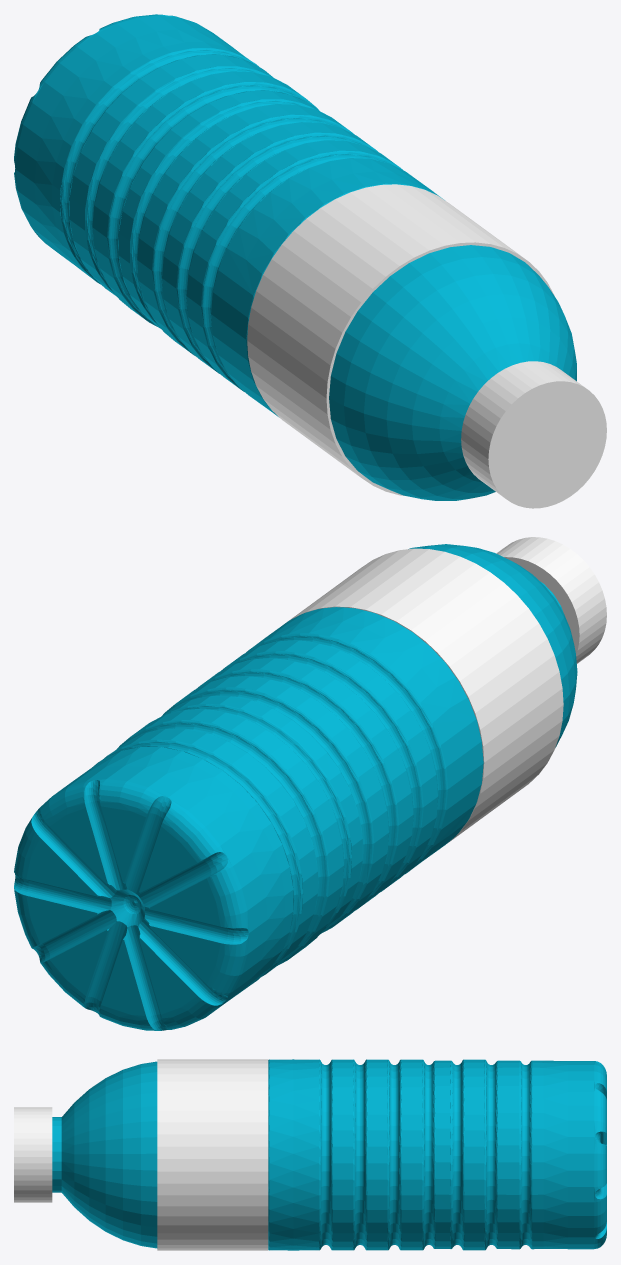
Rendered from water_bottle_model.glb.
3 renders of one model, top to bottom at view 1: azimuth 30°, elevation 25°; view 2: azimuth 150°, elevation 25°; view 3: azimuth 270°, elevation 25°, orthographic. The views are drawn at different scales.
Visible parts, largest first — view 1: obj_0, obj_2, obj_1; view 2: obj_0, obj_2, obj_1; view 3: obj_0, obj_2, obj_1.
Part boxes in pixels (x1=…): obj_0: x1=14, y1=14, x2=576, y2=500; obj_2: x1=247, y1=184, x2=554, y2=495; obj_1: x1=461, y1=361, x2=606, y2=508; obj_0: x1=14, y1=544, x2=577, y2=1030; obj_2: x1=289, y1=548, x2=563, y2=842; obj_1: x1=496, y1=537, x2=606, y2=663; obj_0: x1=52, y1=1059, x2=606, y2=1250; obj_2: x1=157, y1=1059, x2=268, y2=1250; obj_1: x1=14, y1=1107, x2=52, y2=1202.
Size of the model in its own units: 5 by 5 by 15.5.
